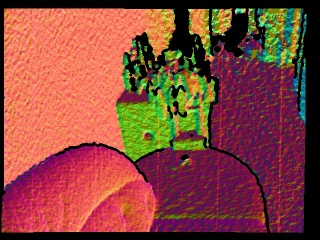station: (170, 106, 209, 150)
